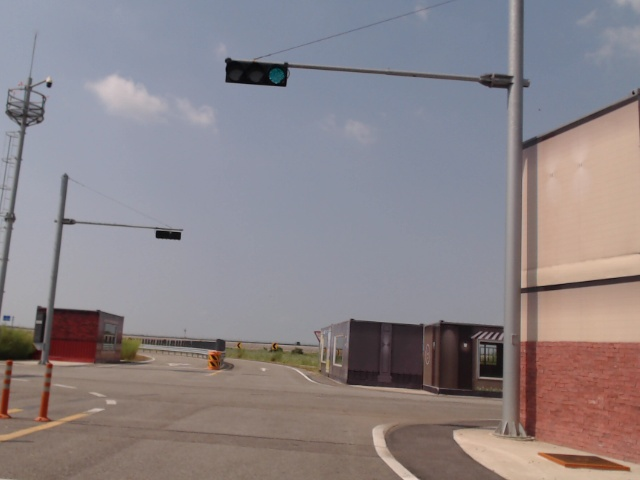green_3: (226, 59, 288, 88)
